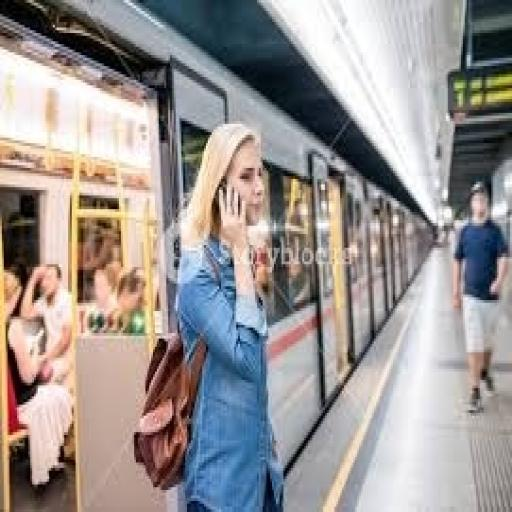calling: (172, 118, 287, 510), (448, 176, 510, 418)
